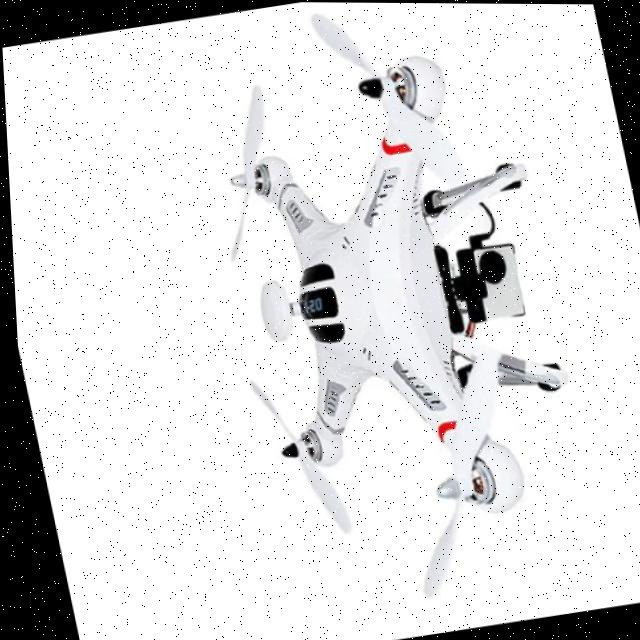drones: (136, 1, 627, 640)
